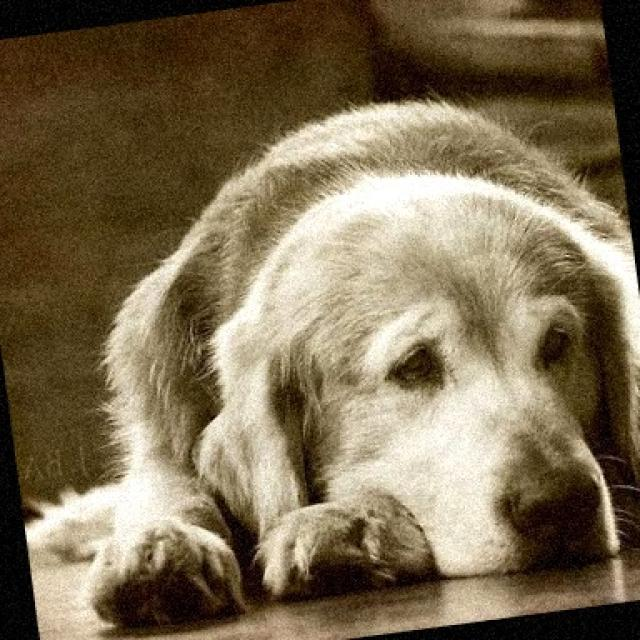sad: (104, 74, 640, 620)
